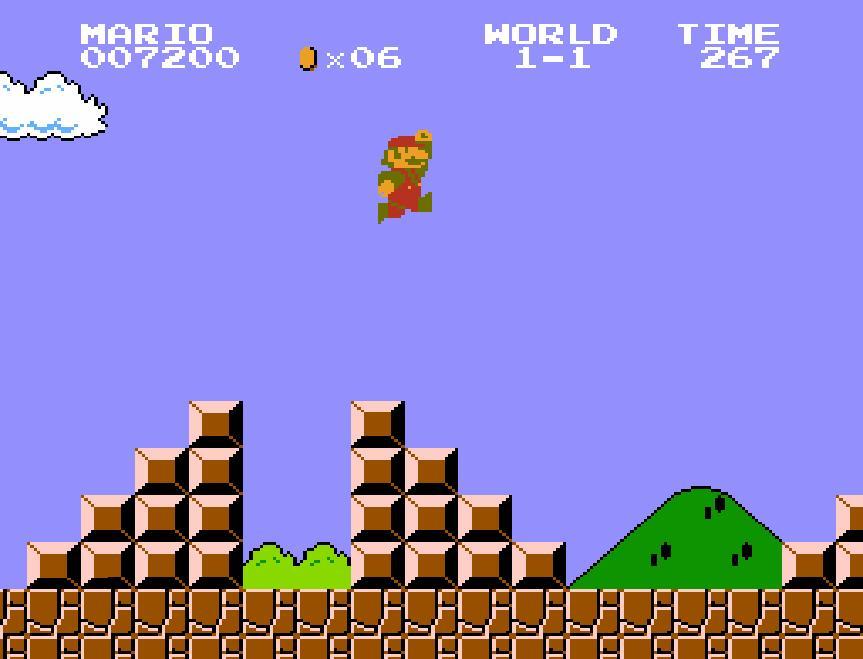big_mario: (376, 127, 434, 225)
